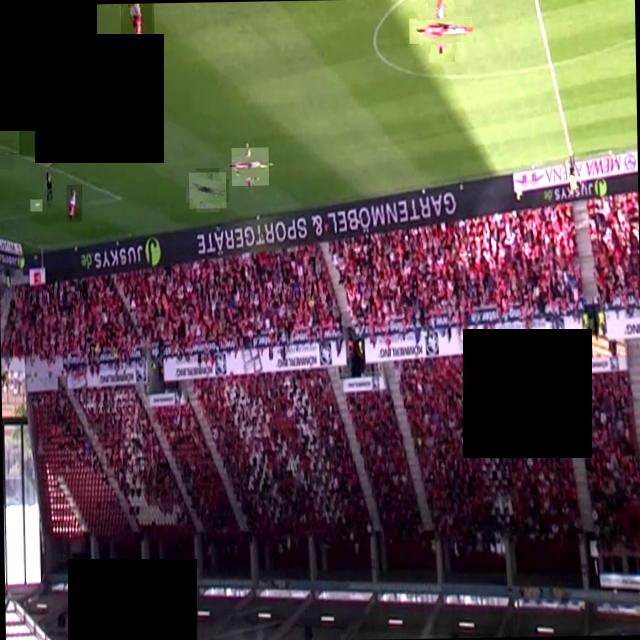ball: (29, 198, 41, 210)
referee: (0, 139, 13, 168)
soccer-player: (417, 6, 464, 54), (36, 4, 74, 60), (120, 2, 154, 52), (18, 104, 48, 156), (231, 147, 269, 186), (188, 172, 226, 208), (66, 185, 82, 222)
